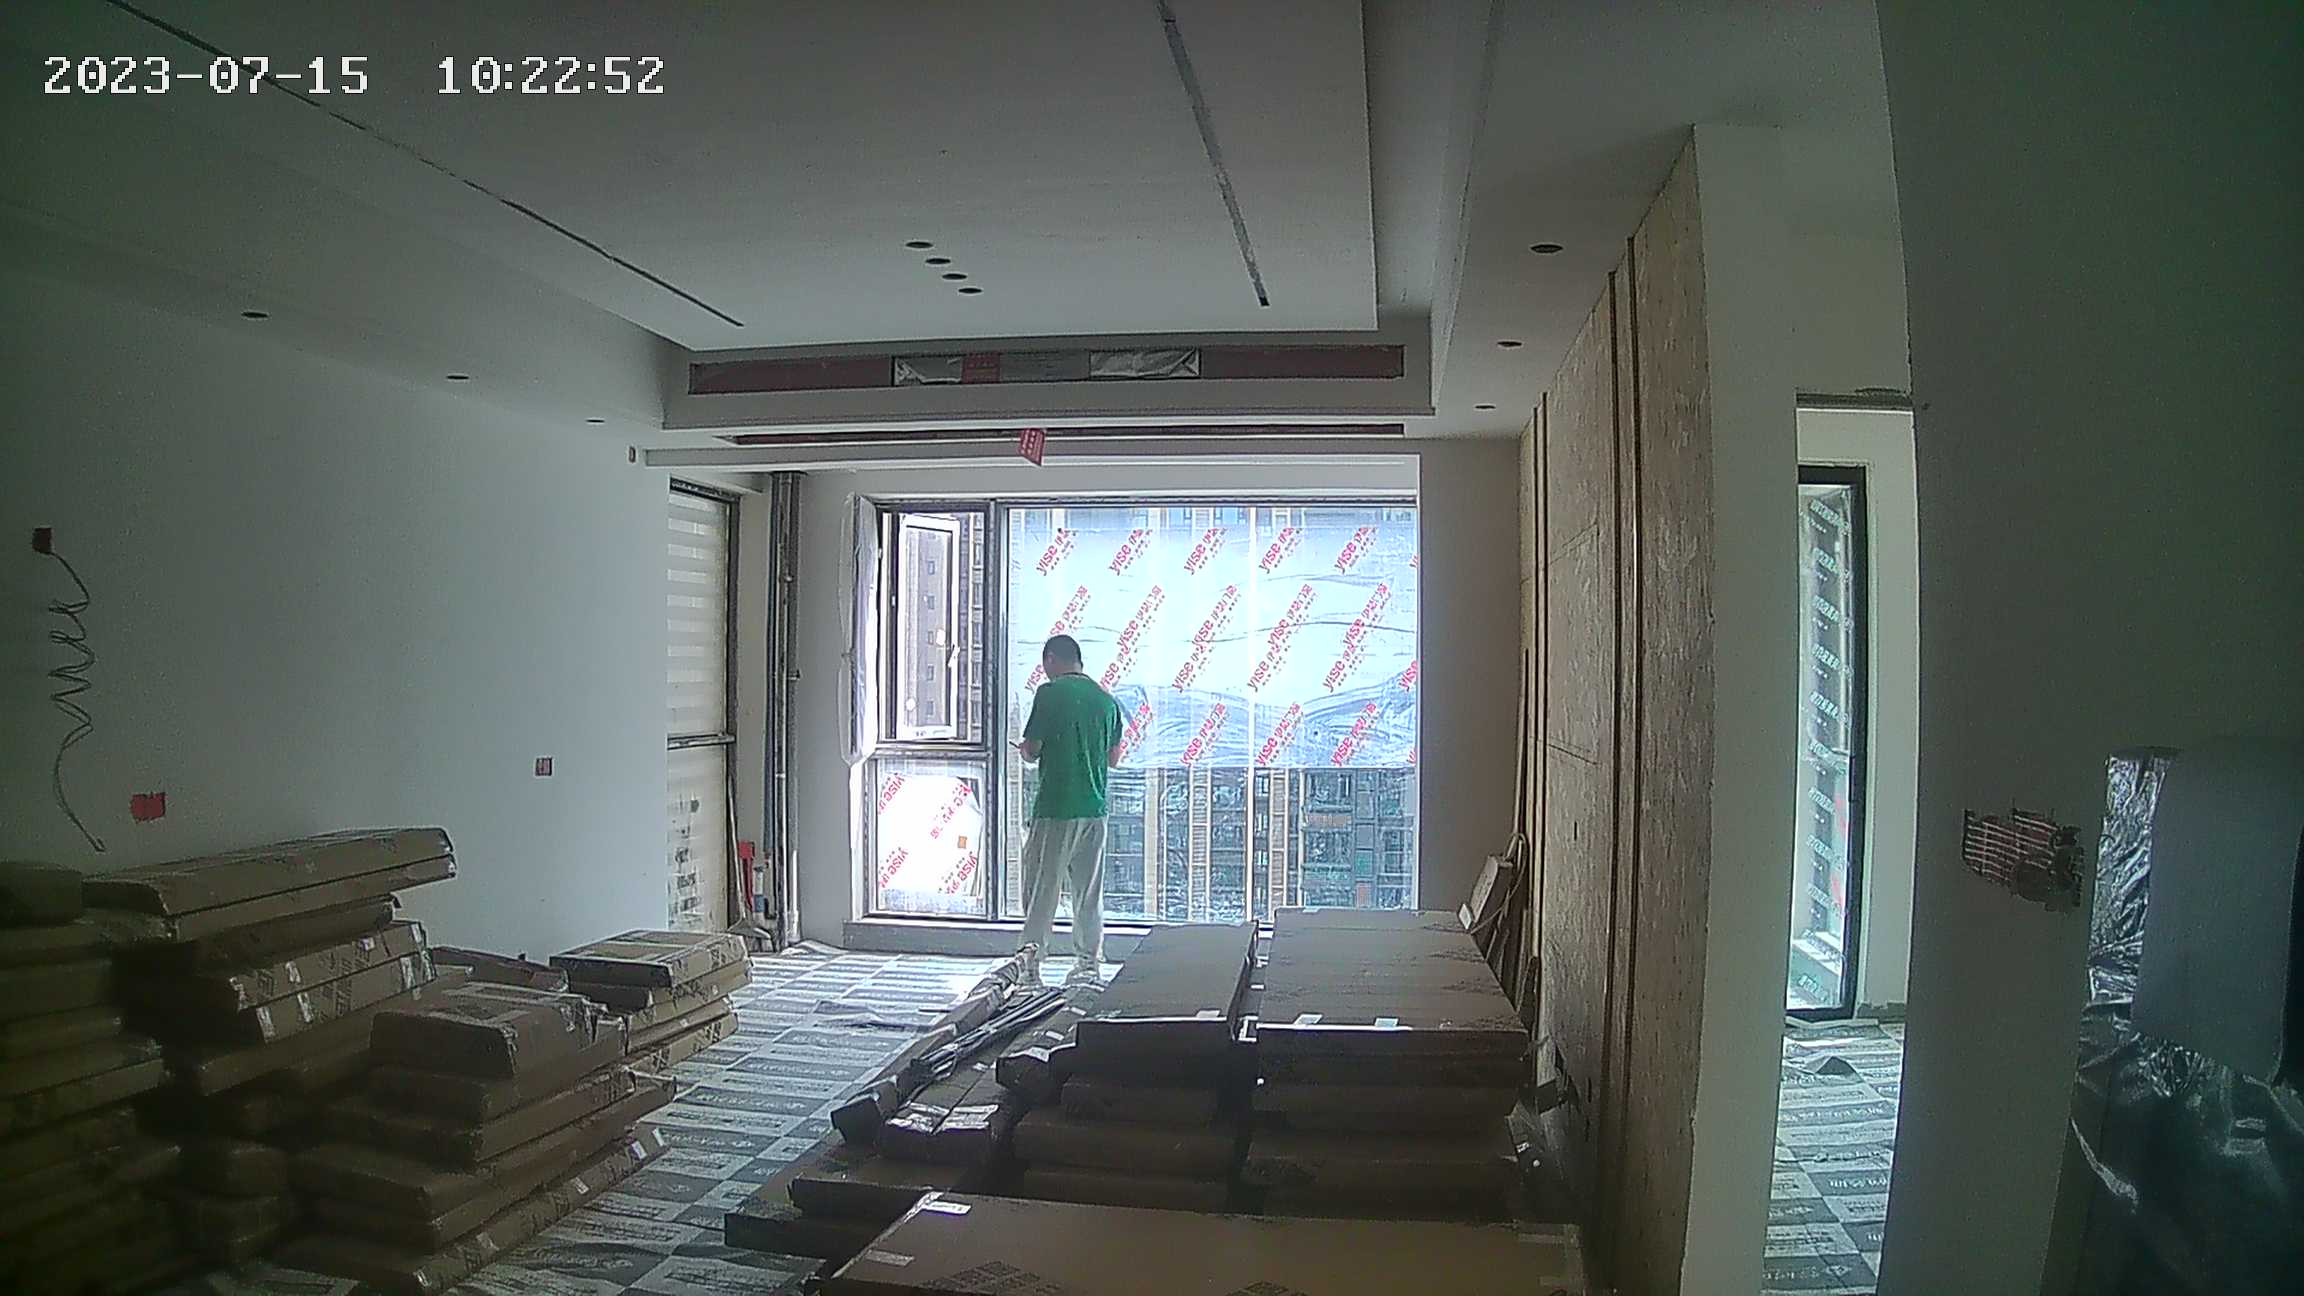people: (1006, 637, 1129, 993)
window: (863, 495, 1429, 942), (1795, 476, 1855, 1009)
